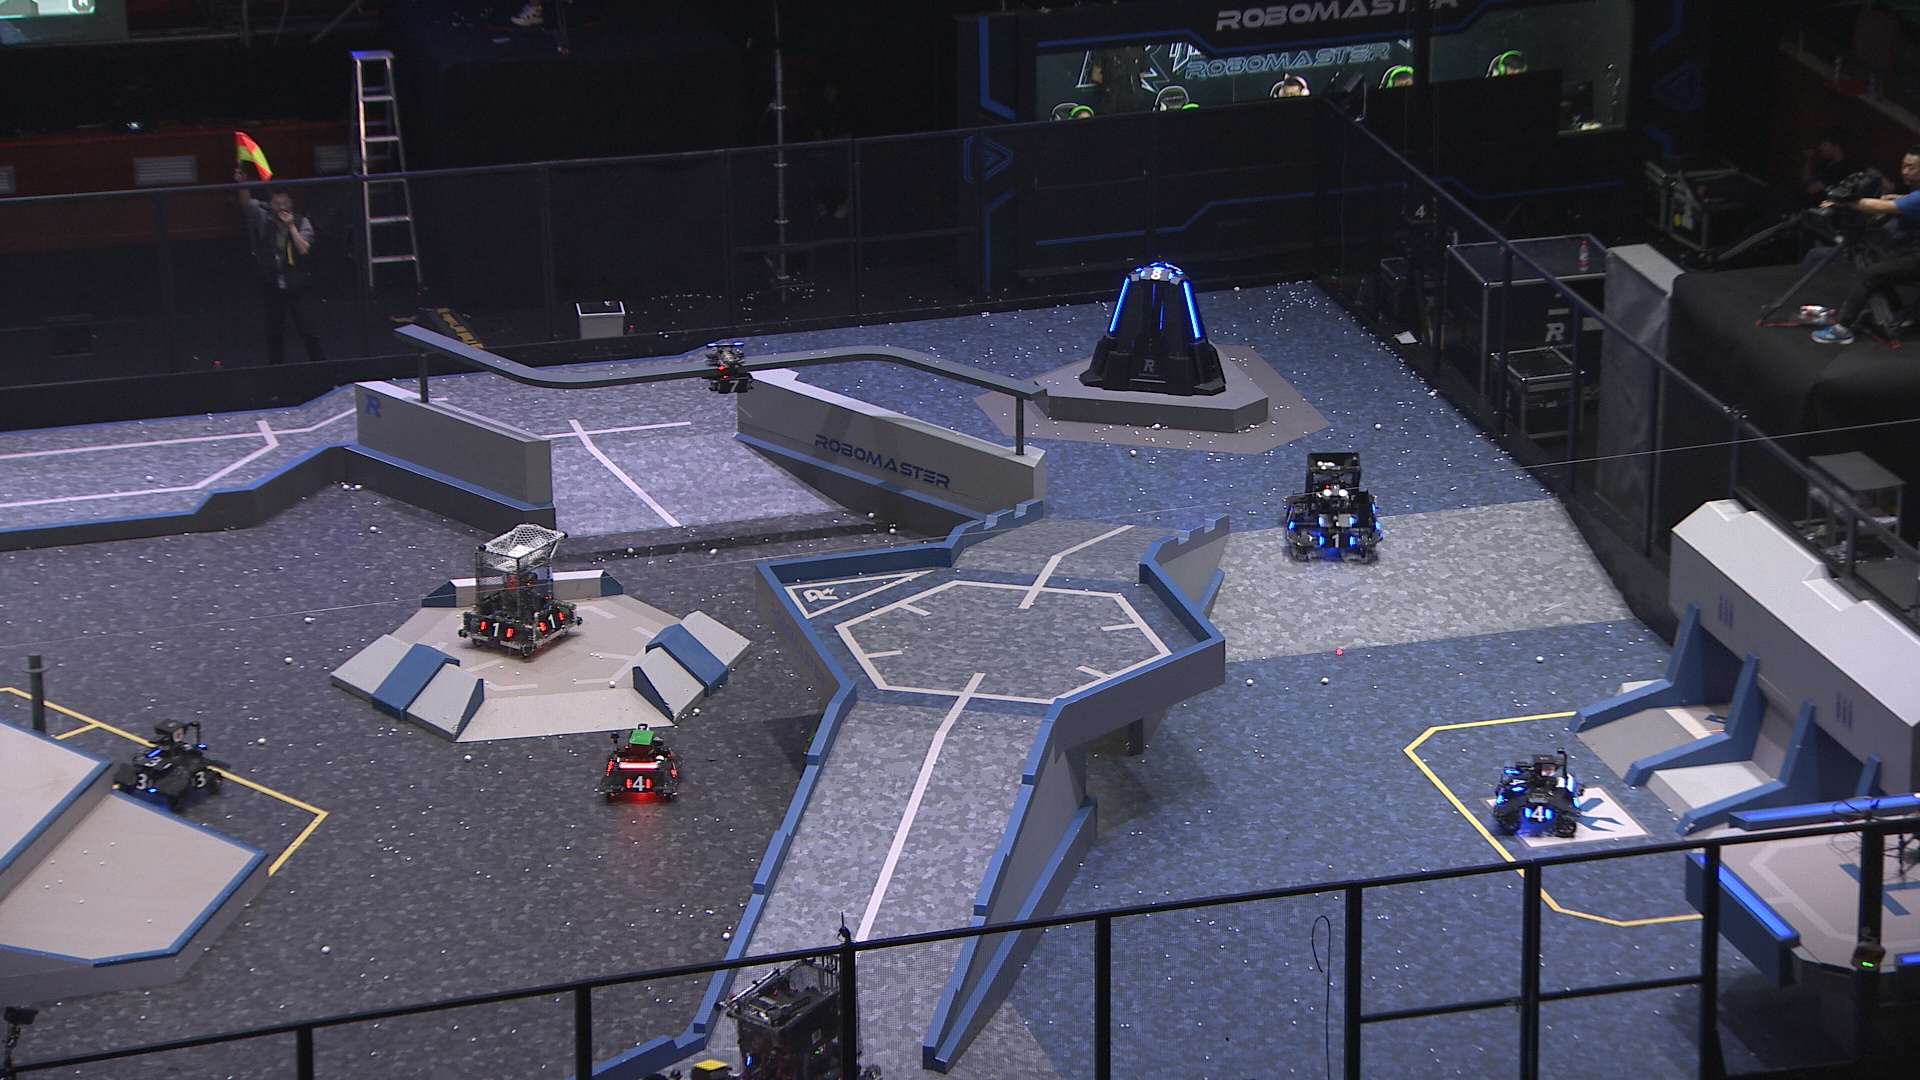armor: (1110, 276, 1133, 335), (1182, 280, 1203, 339), (135, 754, 177, 774), (1315, 531, 1356, 551), (534, 609, 564, 633), (480, 618, 516, 637), (1522, 803, 1555, 823), (716, 378, 752, 396), (1139, 266, 1176, 282), (624, 775, 655, 793), (131, 770, 157, 789), (187, 767, 210, 789), (1505, 773, 1528, 793), (1283, 506, 1298, 531), (666, 760, 680, 779)
base: (1077, 261, 1228, 396)
car: (711, 949, 882, 1080), (458, 524, 583, 661), (1278, 452, 1386, 562), (109, 713, 225, 812), (1490, 746, 1586, 837), (600, 723, 684, 804)
watcher: (702, 342, 754, 396)
